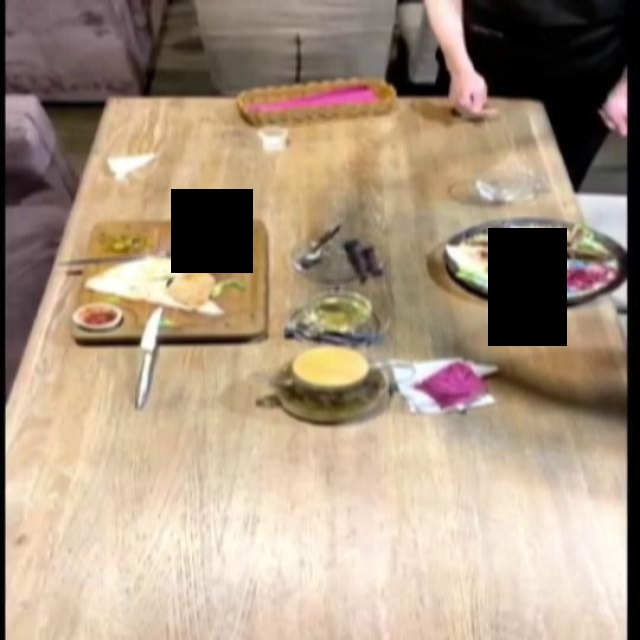meat: (72, 219, 271, 336), (452, 198, 620, 333)
tea: (270, 345, 388, 423)
